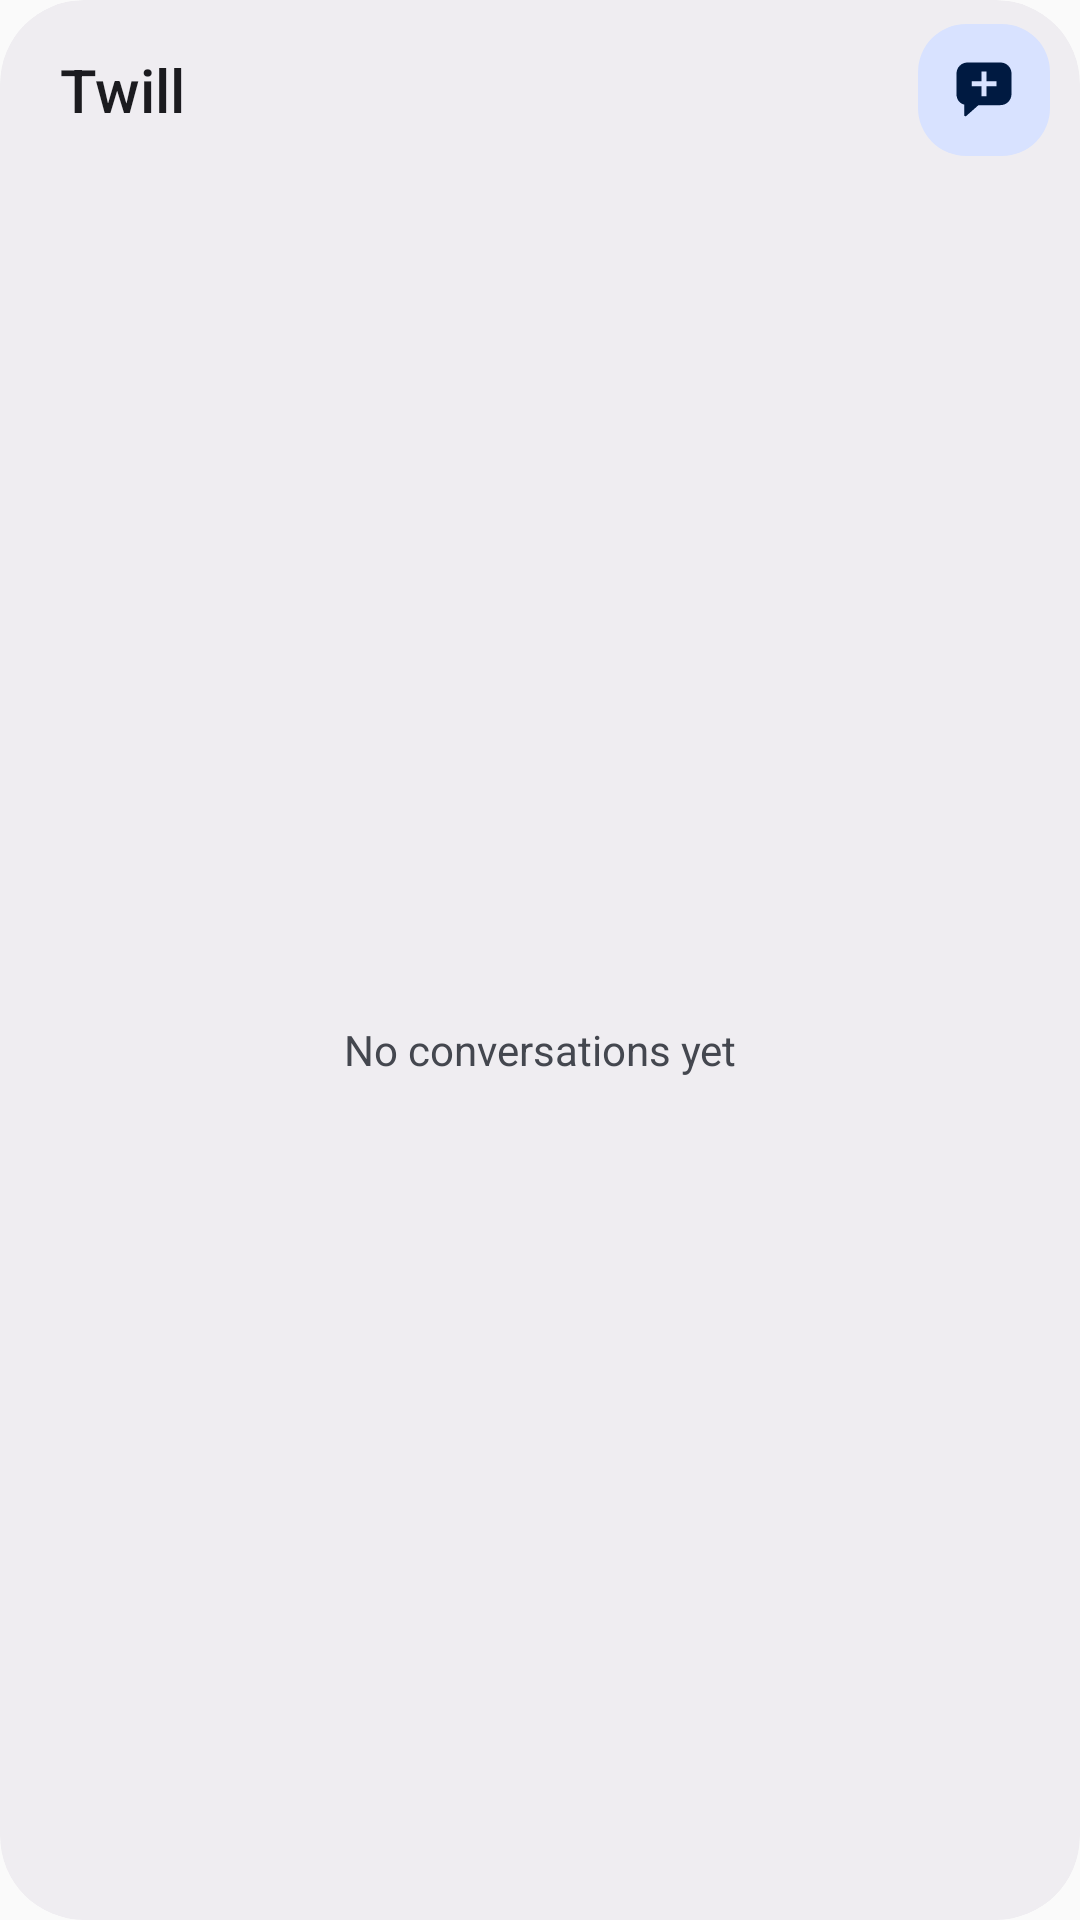

Point at icon controls on the screen. Image size 1080px×1920px, points as [x,y].
Start new conversation: [984,89]
